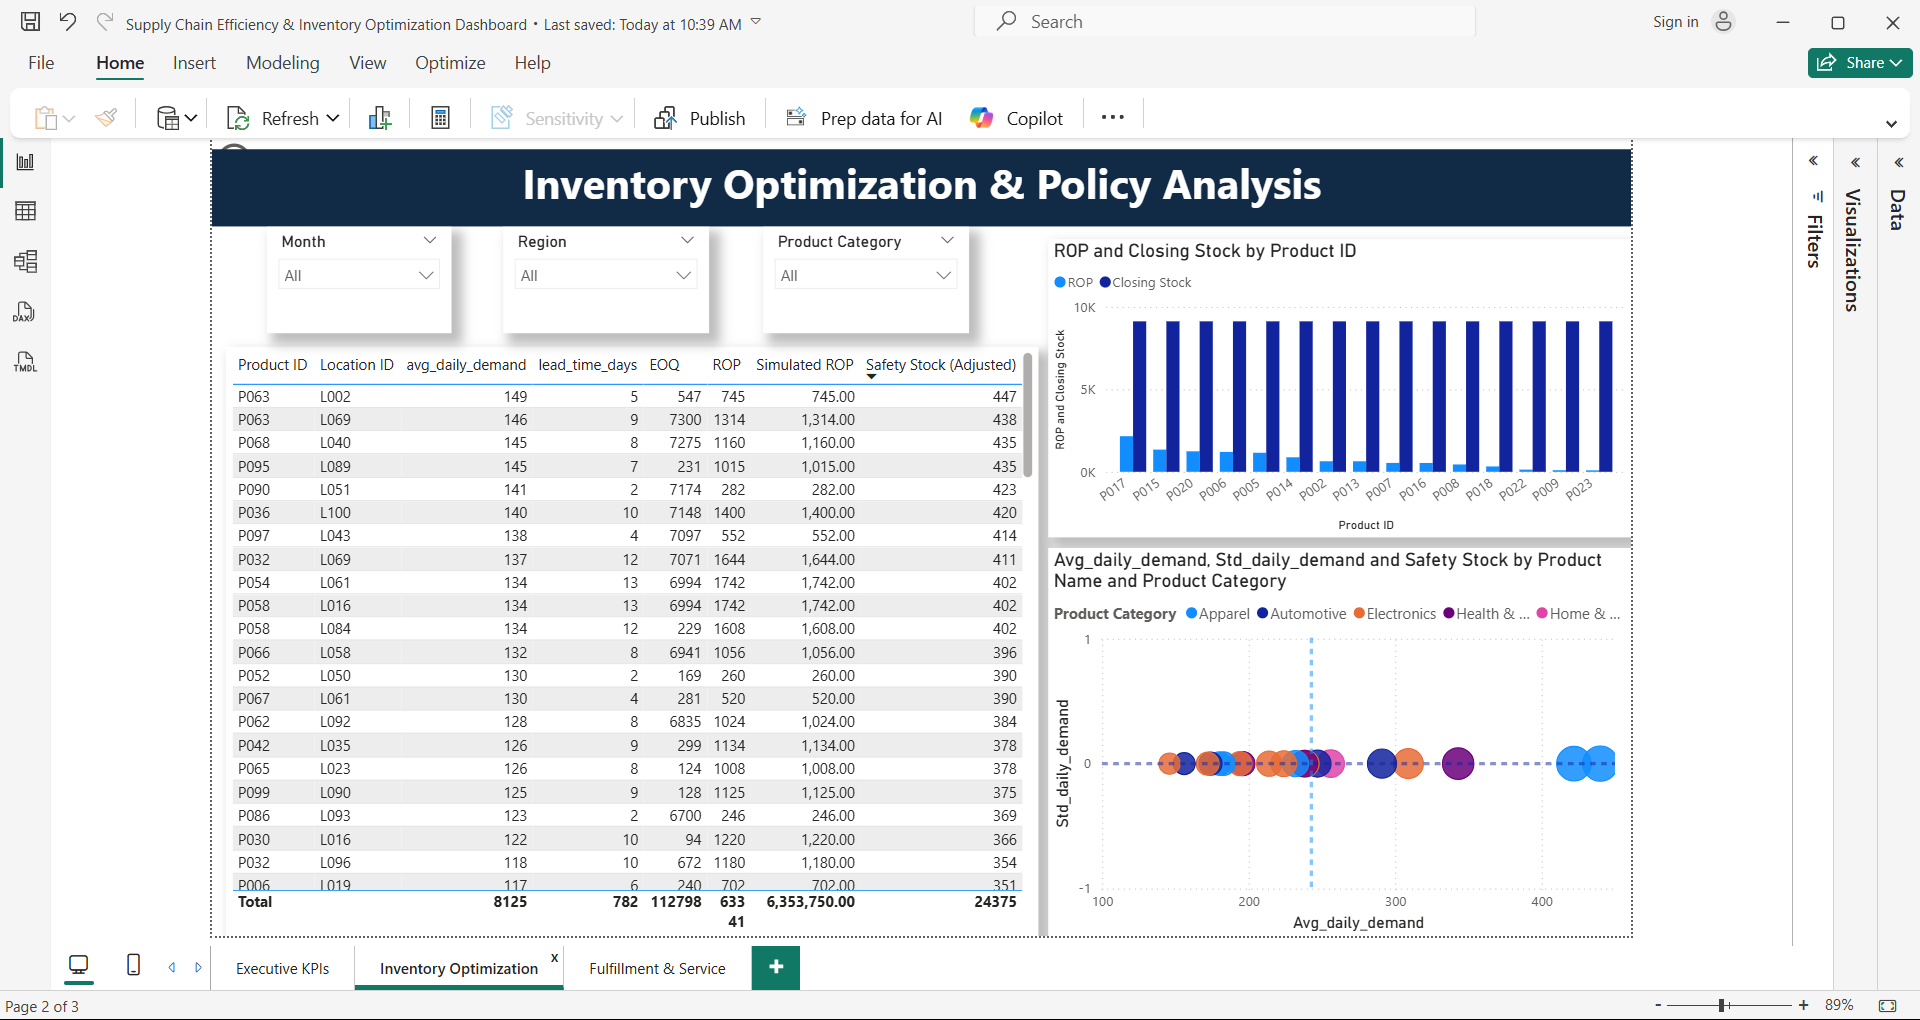

The dashboard page shown, as its layout file describes it:
{"tool":"powerbi","page":{"name":"Inventory Optimization","canvas":[1280,720],"ordinal":1},"visuals":[{"type":"tableEx","fields":{"Values":["inventory_policy.Product ID","inventory_policy.Location ID","Sum(inventory_policy.avg_daily_demand)","Sum(inventory_policy.lead_time_days)","Sum(inventory_policy.EOQ)","Sum(inventory_policy.ROP)","inventory_policy.Safety Stock (Adjusted)"]},"box":[12.3,188,669.6,532.4],"z":0},{"type":"actionButton","box":[0,0,100,40],"z":1000},{"type":"clusteredColumnChart","fields":{"Category":["inventory_policy.Product ID"],"Y":["Sum(inventory_policy.ROP)","Sum(Inventory_Fact_Table.Closing Stock)"]},"box":[694.3,90.6,585.9,269],"z":2000},{"type":"scatterChart","fields":{"X":["Sum(inventory_policy.avg_daily_demand)"],"Y":["Sum(inventory_policy.std_daily_demand)"],"Size":["inventory_policy.Safety Stock (Adjusted)"],"Category":["Product_Table.Product Name"],"Series":["Product_Table.Product Category"]},"box":[694.3,369.1,585.9,351.3],"z":3000},{"type":"textbox","box":[0,9.6,1280.3,70],"z":4000},{"type":"slicer","fields":{"Values":["DateTable.Date.Variation.Date Hierarchy.Month"]},"box":[49.4,79.6,166,96.1],"z":4001},{"type":"slicer","fields":{"Values":["Product_Table.Product Category"]},"box":[496.7,79.6,185.2,96.1],"z":4002},{"type":"slicer","fields":{"Values":["Location_Table.Region"]},"box":[262.1,79.6,185.2,96.1],"z":4003}]}

Visuals, with their boxes on the page's 1280x720 design canvas (x1, y1, x2, y2). These are canvas units, not pixel positions in the 1920x1020 screenshot, which may show the page scaled, cropped or inside an application window:
tableEx - inventory_policy.Product ID x inventory_policy.Location ID: box(12, 188, 682, 720)
actionButton: box(0, 0, 100, 40)
clusteredColumnChart - inventory_policy.Product ID x Sum(inventory_policy.ROP): box(694, 91, 1280, 360)
scatterChart - Sum(inventory_policy.avg_daily_demand) x Sum(inventory_policy.std_daily_demand): box(694, 369, 1280, 720)
textbox: box(0, 10, 1280, 80)
slicer - DateTable.Date.Variation.Date Hierarchy.Month: box(49, 80, 215, 176)
slicer - Product_Table.Product Category: box(497, 80, 682, 176)
slicer - Location_Table.Region: box(262, 80, 447, 176)
